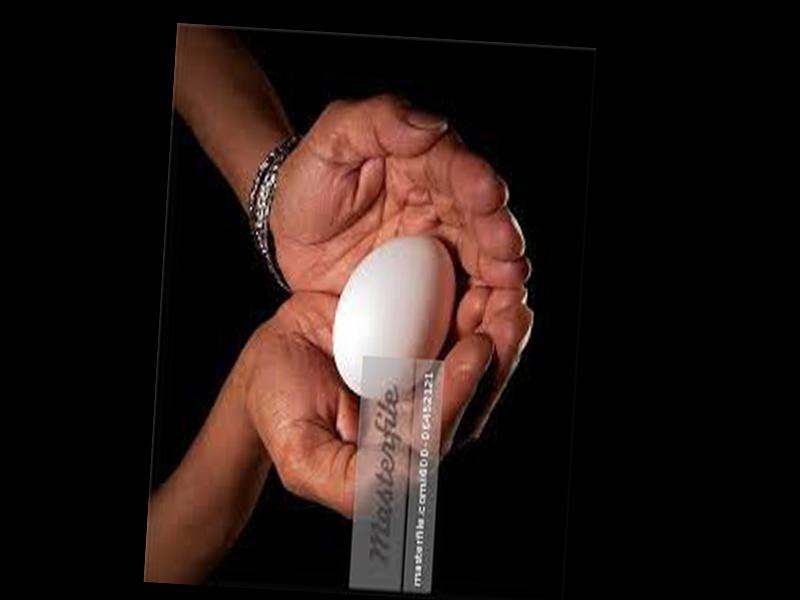Eggs: (331, 229, 460, 398)
